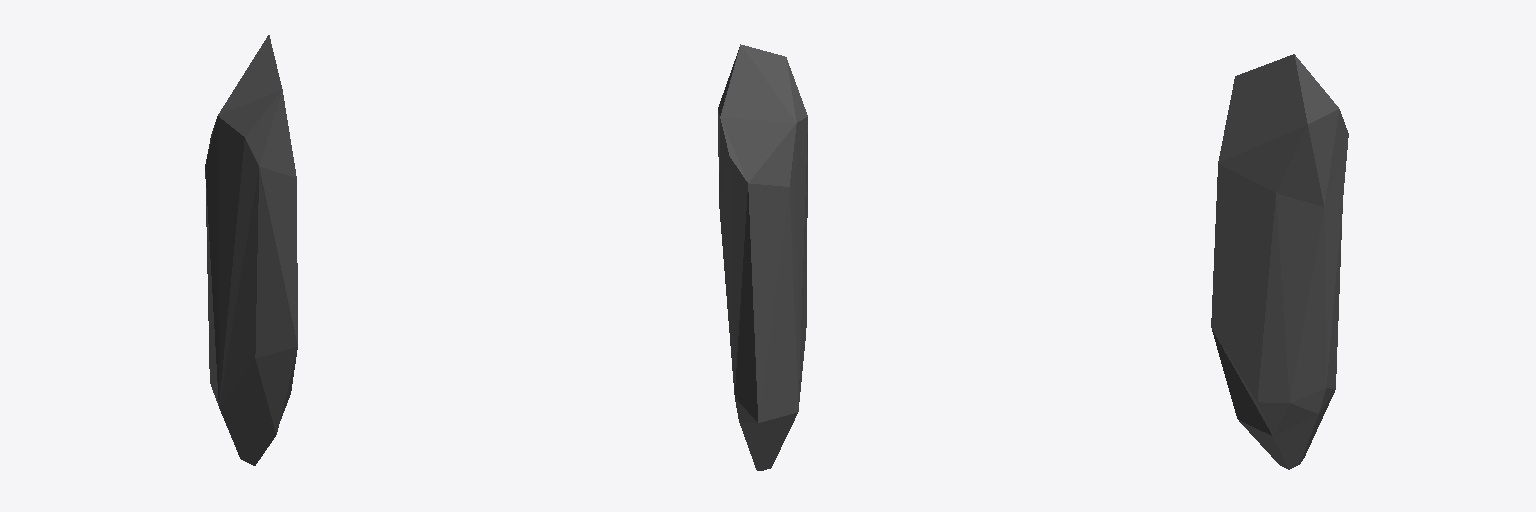
The model's file is mini3.obj.
The picture shows the model from 3 angles: view 1: azimuth 30°, elevation 25°; view 2: azimuth 150°, elevation 25°; view 3: azimuth 270°, elevation 25°; orthographic projection.
Parts seen in each view (by area): view 1: mini3; view 2: mini3; view 3: mini3.
Boxes of the visible parts, box(x1,y1,x2,y2) form: mini3: box(205, 35, 297, 465); mini3: box(718, 44, 807, 470); mini3: box(1211, 54, 1348, 469).
Size of the model in its own units: 2.74 by 15.32 by 4.51.